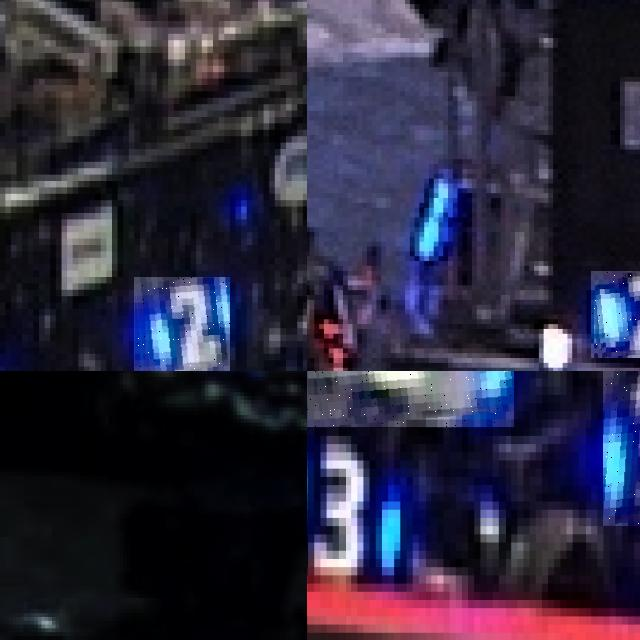B2: (134, 277, 229, 371), (591, 270, 640, 358)
B3: (307, 440, 413, 596), (307, 371, 514, 427), (603, 371, 640, 526)
